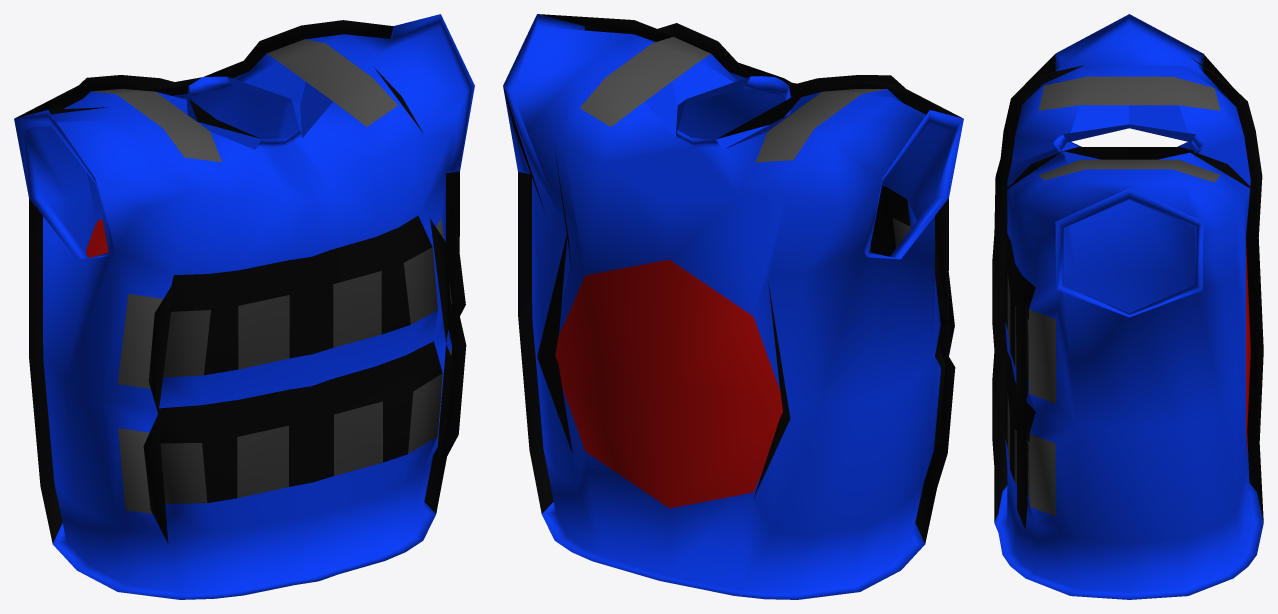
Rendered from Vest.fbx.
3 views of the same model, side by side, from view 1: azimuth 30°, elevation 25°; view 2: azimuth 150°, elevation 25°; view 3: azimuth 270°, elevation 25° (orthographic). The views are drawn at different scales.
Visible parts, largest first — view 1: Vest; view 2: Vest; view 3: Vest.
Boxes of the visible parts, x1=… form: Vest: x1=14, y1=14, x2=474, y2=599; Vest: x1=503, y1=14, x2=963, y2=599; Vest: x1=992, y1=14, x2=1263, y2=599.
Size of the model in its own units: 0.3192 by 0.3631 by 0.2104.
2 materials, 1 textured.
